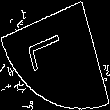L_E: (32, 32, 78, 78)
